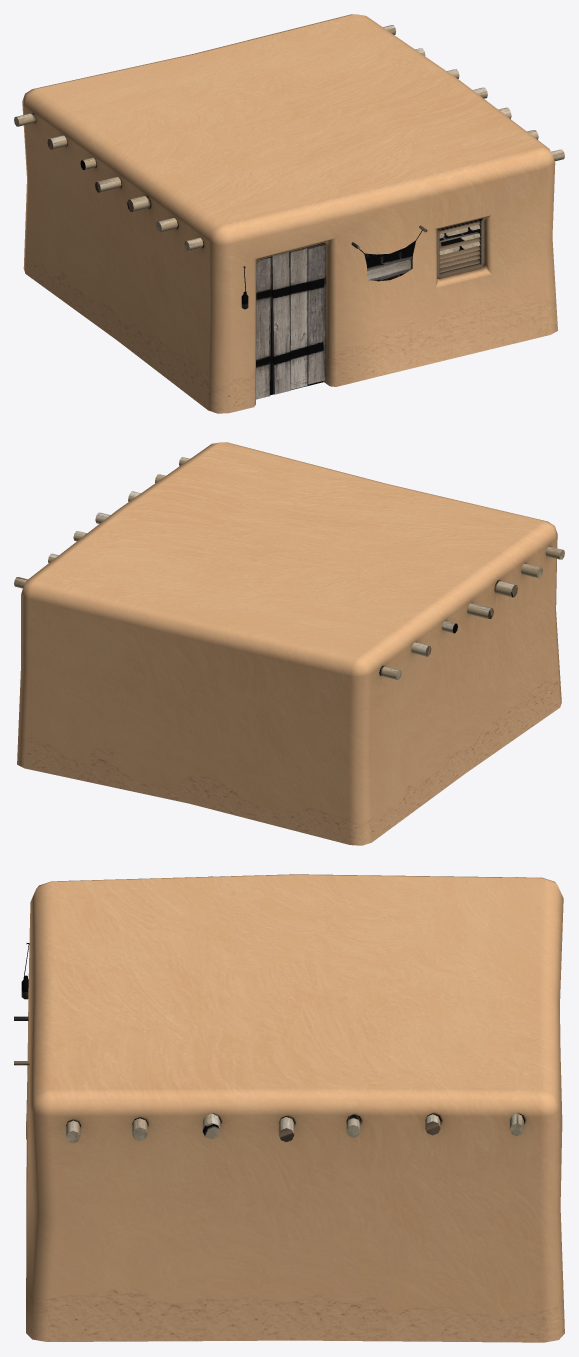
3 renders of one model, top to bottom at view 1: azimuth 30°, elevation 25°; view 2: azimuth 150°, elevation 25°; view 3: azimuth 270°, elevation 25°, orthographic. The views are drawn at different scales.
Visible parts, largest first — view 1: building_1; view 2: building_1; view 3: building_1.
Boxes of the visible parts, x1,y1,x2,y2 form: building_1: (14, 14, 564, 413); building_1: (14, 442, 564, 845); building_1: (14, 874, 564, 1342).
Bounding box in the file's own units: 224 × 102 × 206.
